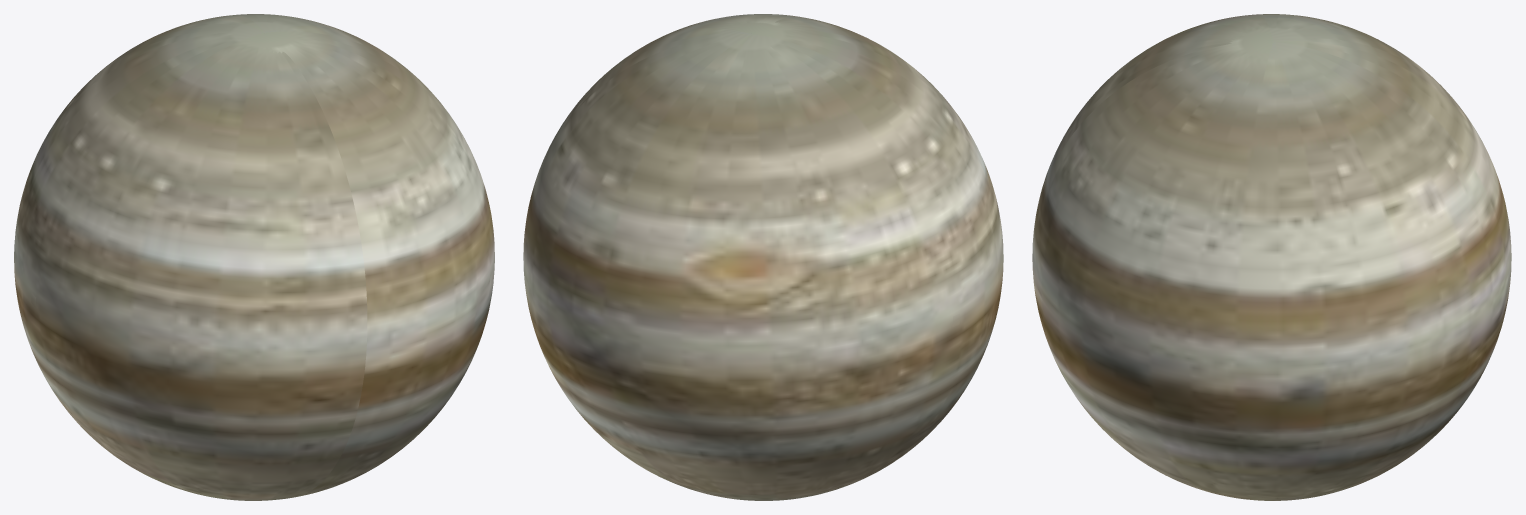
The model's file is jupiter.obj.
3 renders of one model, left to right at view 1: azimuth 30°, elevation 25°; view 2: azimuth 150°, elevation 25°; view 3: azimuth 270°, elevation 25°, orthographic.
Visible parts, largest first — view 1: Sphere; view 2: Sphere; view 3: Sphere.
Boxes of the visible parts, <box> form: Sphere: <box>14,14,494,500</box>; Sphere: <box>523,14,1003,500</box>; Sphere: <box>1032,14,1511,500</box>.
Size of the model in its own units: 3.59 by 3.65 by 3.57.
1 material, 1 textured.
